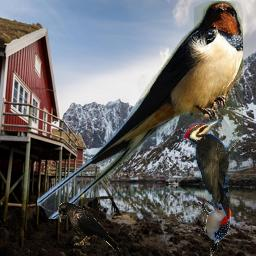Crow: (58, 202, 120, 251)
Swallow: (37, 1, 243, 219)
Woodpecker: (180, 119, 239, 219), (198, 200, 231, 256)
